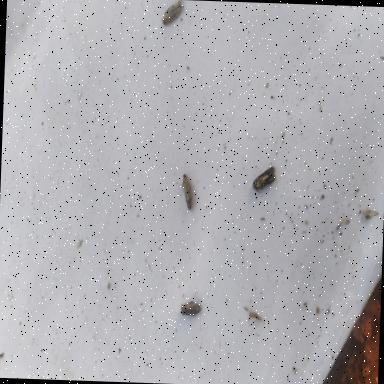pbw: (180, 291, 202, 330), (251, 165, 275, 193), (161, 0, 181, 25), (180, 173, 192, 212)
